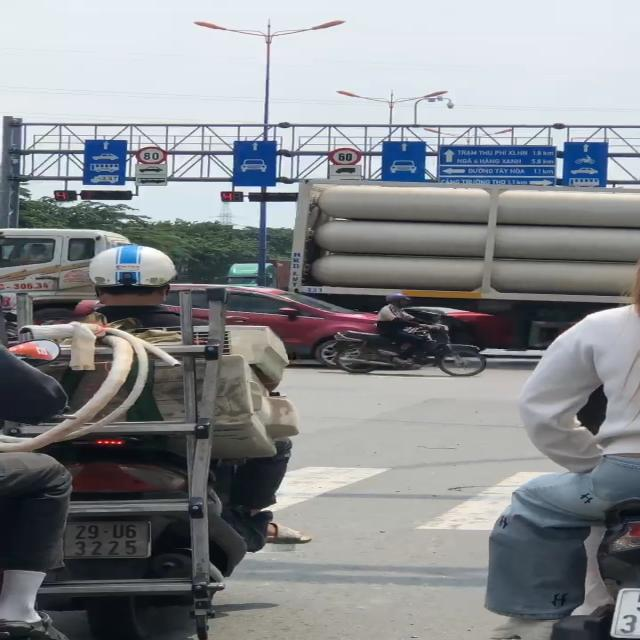Bien bao toc do toi da cho phep: (134, 145, 176, 166), (326, 148, 365, 168)
